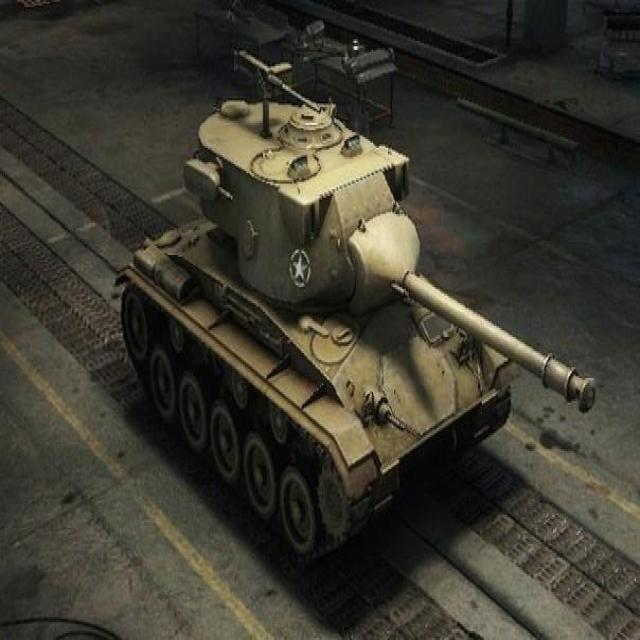Tanks: (73, 81, 581, 561)
